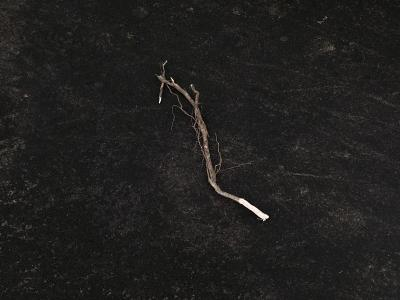Root: (157, 61, 269, 221)
